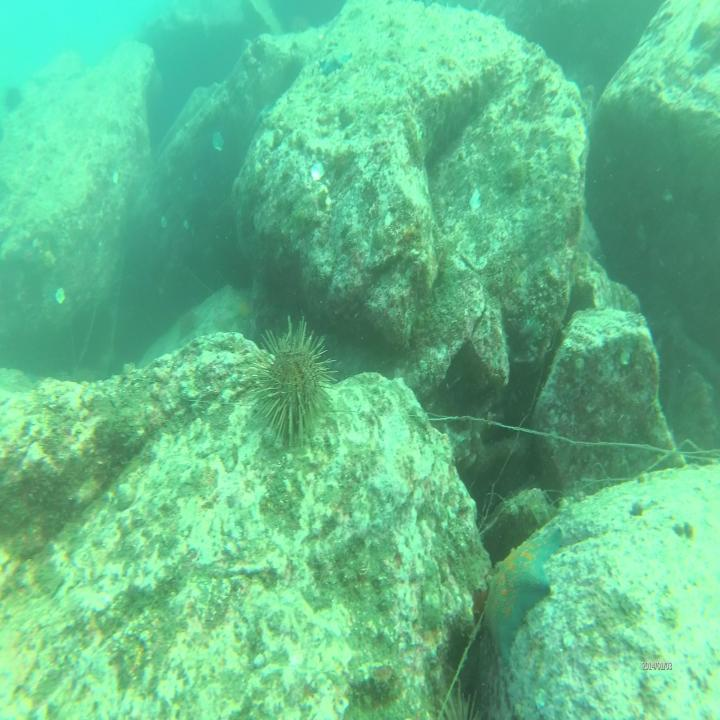echinus: (257, 324, 331, 446)
starfish: (486, 530, 563, 661), (316, 52, 351, 74)
